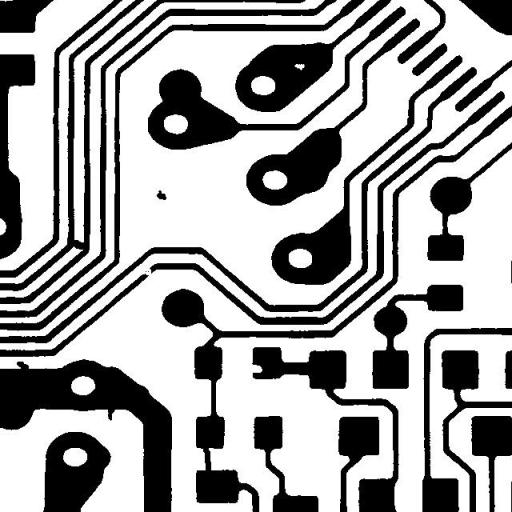copper: (148, 182, 174, 208)
mousebite: (240, 355, 270, 380)
open: (133, 260, 160, 283)
pin-hole: (286, 56, 312, 78)
short: (194, 433, 218, 480), (64, 232, 94, 257)
spur: (9, 354, 38, 380), (100, 398, 122, 428)
